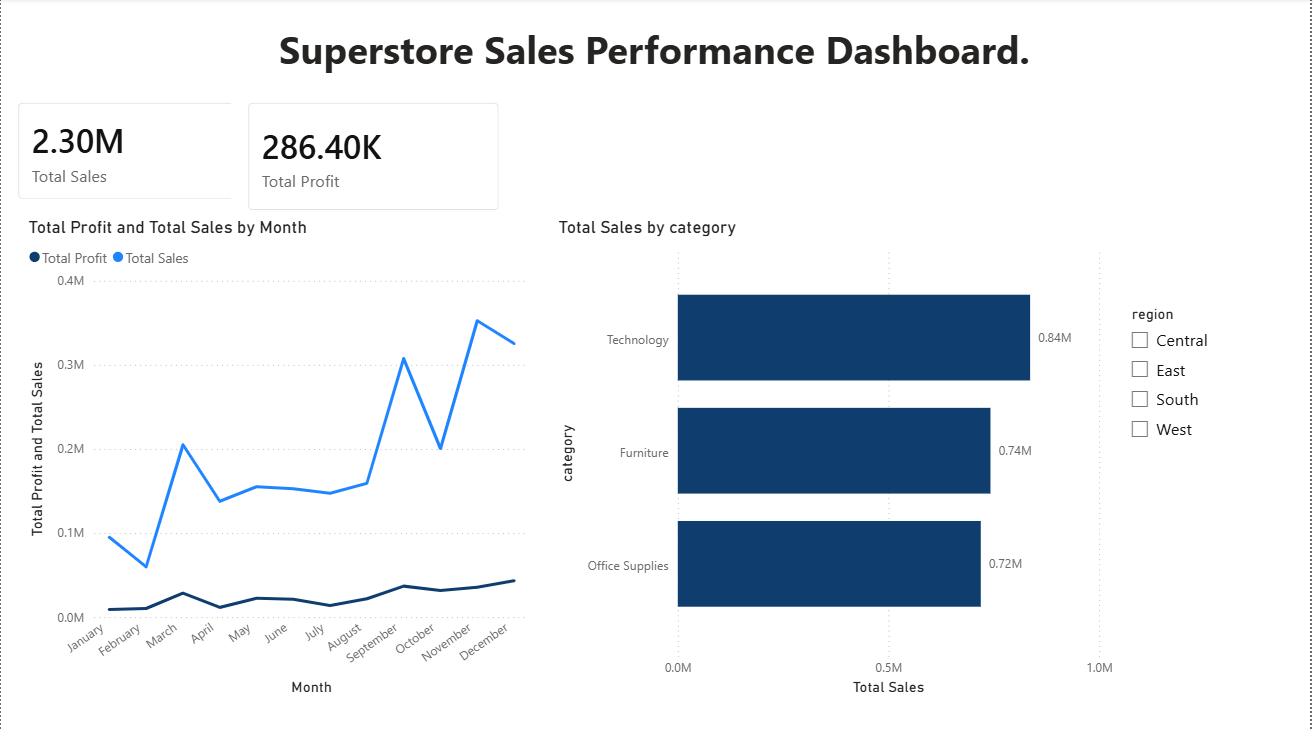

The page's visual inventory and layout, read from the dashboard file:
{"tool":"powerbi","page":{"name":"Page 1","canvas":[1280,720],"ordinal":0},"visuals":[{"type":"cardVisual","fields":{"Data":["Fact_Orders.Total Sales"]},"box":[0,85.1,279.9,129],"z":0},{"type":"cardVisual","fields":{"Data":["Fact_Orders.Total Profit"]},"box":[225,85.1,279.9,140],"z":1000},{"type":"lineChart","fields":{"Category":["Fact_Orders.order_date.Variation.Date Hierarchy.Year","Fact_Orders.order_date.Variation.Date Hierarchy.Quarter","Fact_Orders.order_date.Variation.Date Hierarchy.Month","Fact_Orders.order_date.Variation.Date Hierarchy.Day"],"Y":["Fact_Orders.Total Profit","Fact_Orders.Total Sales"]},"box":[22,214.1,499.5,473.4],"z":1001},{"type":"clusteredBarChart","fields":{"Category":["Dim_Products.category"],"Y":["Fact_Orders.Total Sales"]},"box":[540.7,214.1,553,473.4],"z":1002},{"type":"slicer","fields":{"Values":["Dim_Geography.region"]},"box":[1093.7,296.4,155.1,155.1],"z":1003},{"type":"textbox","box":[248.4,19.2,782.2,65.9],"z":1004}]}

Visuals, with their boxes in screenshot pixels (x1, y1, x2, y2), scaled from the page's 1280x720 canvas onto the 1313x731 screenshot:
cardVisual - Fact_Orders.Total Sales: pyautogui.locateOnScreen(0, 86, 287, 217)
cardVisual - Fact_Orders.Total Profit: pyautogui.locateOnScreen(231, 86, 518, 229)
lineChart - Fact_Orders.order_date.Variation.Date Hierarchy.Year x Fact_Orders.order_date.Variation.Date Hierarchy.Quarter: pyautogui.locateOnScreen(23, 217, 535, 698)
clusteredBarChart - Dim_Products.category x Fact_Orders.Total Sales: pyautogui.locateOnScreen(555, 217, 1122, 698)
slicer - Dim_Geography.region: pyautogui.locateOnScreen(1122, 301, 1281, 458)
textbox: pyautogui.locateOnScreen(255, 19, 1057, 86)
